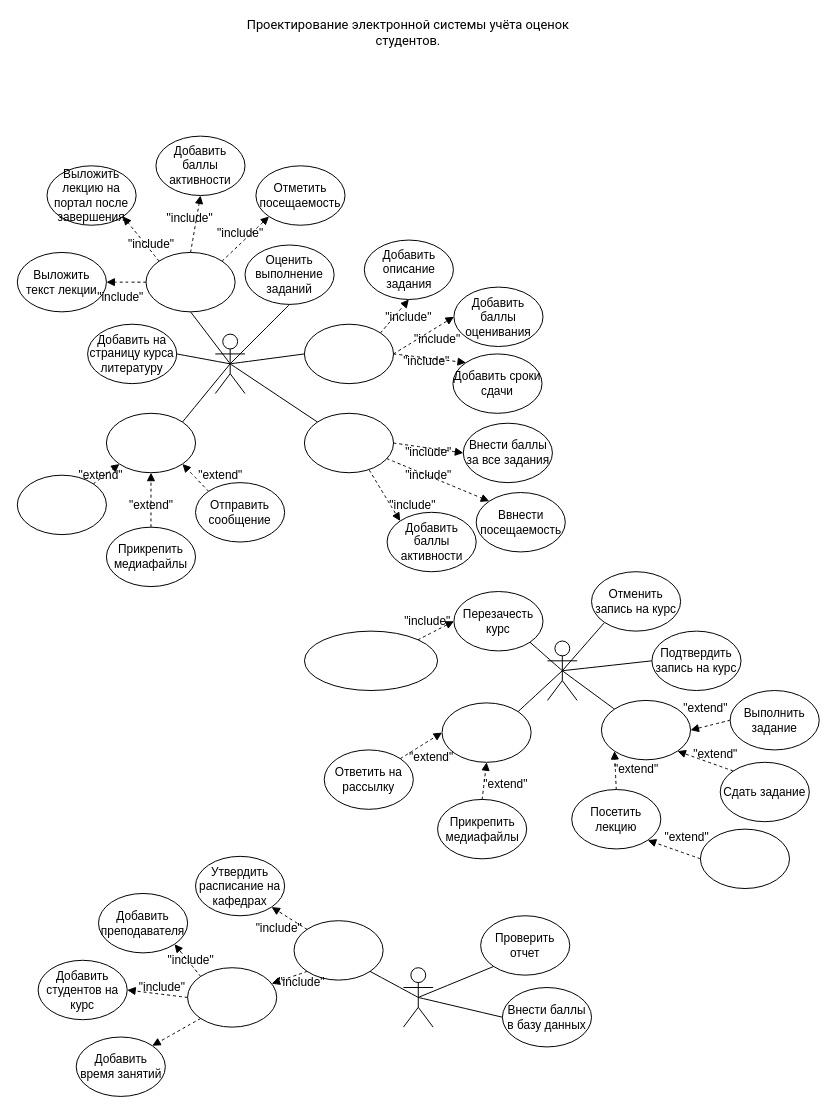
The diagram is 837 pixels wide and 1114 high, and some of its shapes have lost their labels. Each missing label, with the box of its shape:
Выполнить задание на лекции: (699, 828, 790, 889)
Добавить курс в расписание: (187, 967, 277, 1027)
Добавить на курс задания: (303, 323, 394, 384)
Написать сообщение в чат поддержки: (441, 702, 531, 762)
Открыть чат со студентами: (105, 412, 196, 473)
Отправить зачетку работнику администрации, чтобы курс был перезачтен: (303, 630, 438, 691)
Преподаватель: (214, 333, 245, 394)
Провести лекцию: (145, 251, 235, 312)
Пройти курс: (600, 699, 691, 760)
Работник администрации: (402, 967, 433, 1027)
Сделать рассылку студентам: (16, 474, 106, 535)
Создать расписание: (293, 920, 383, 980)
Составить отчет оценок за курс: (303, 412, 394, 473)
Студент: (546, 640, 577, 700)
